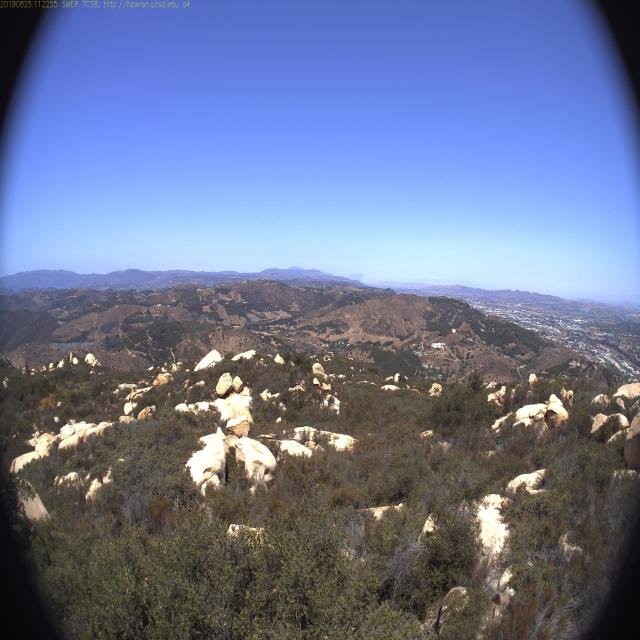smoke: (347, 265, 368, 288)
